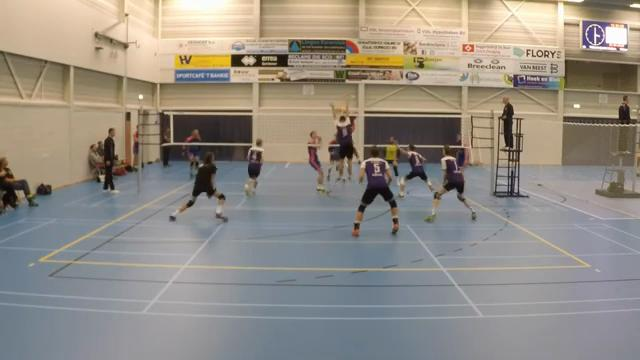attacco: (348, 94, 365, 164)
muro: (323, 99, 354, 185)
